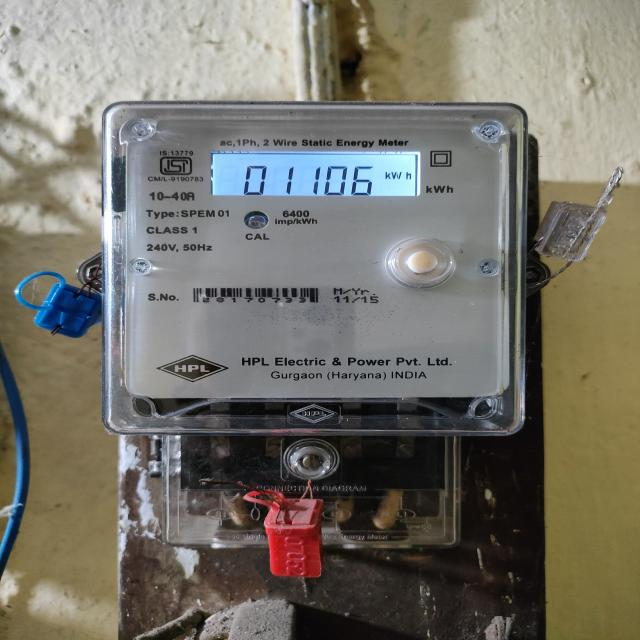display: (207, 152, 425, 202)
